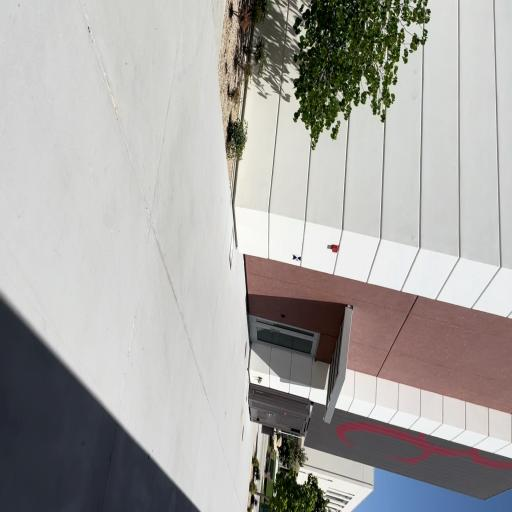target9: (293, 254, 301, 262)
